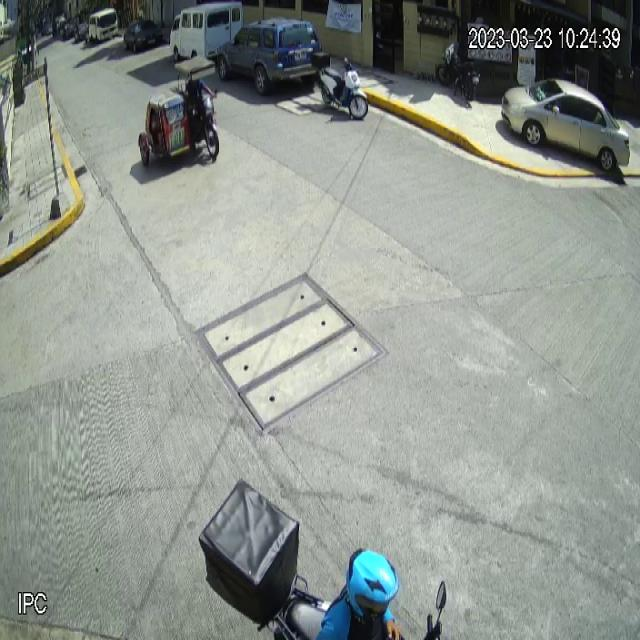Car: (500, 76, 630, 173), (215, 15, 322, 93)
Motorcycle: (311, 51, 368, 120)
Tricycle: (137, 54, 220, 168)
Van: (170, 0, 244, 58)
